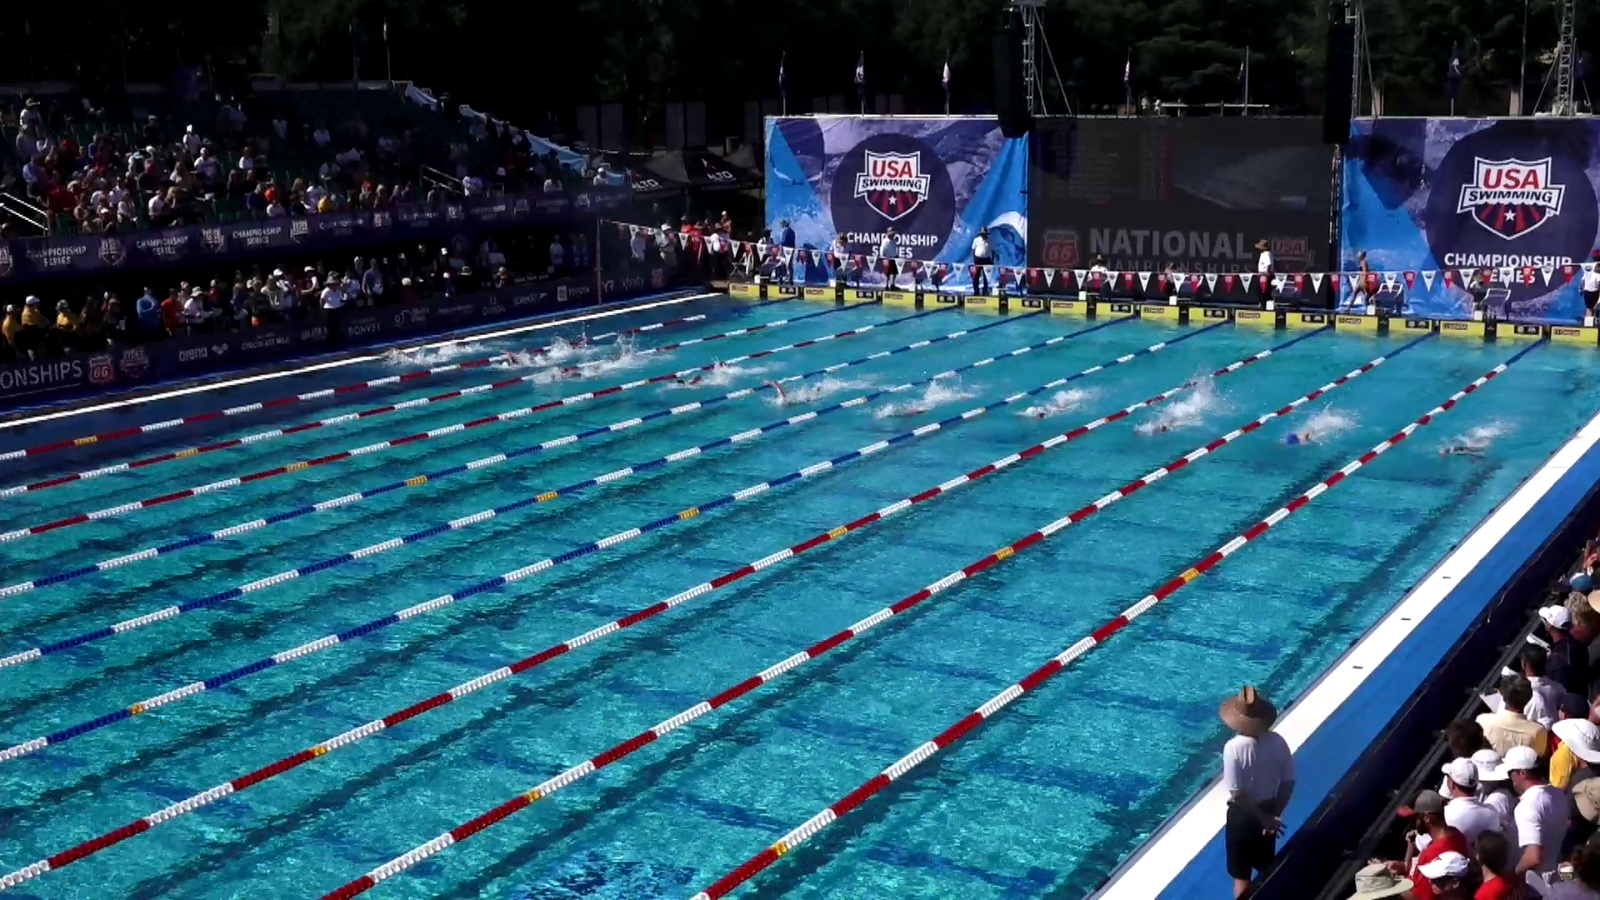swimmerw: (1435, 429, 1501, 467), (1140, 403, 1198, 441), (769, 381, 831, 410), (1281, 423, 1344, 444), (878, 401, 936, 421), (384, 352, 438, 369), (673, 376, 725, 393), (498, 348, 542, 369), (1027, 405, 1075, 421), (547, 374, 595, 384)
